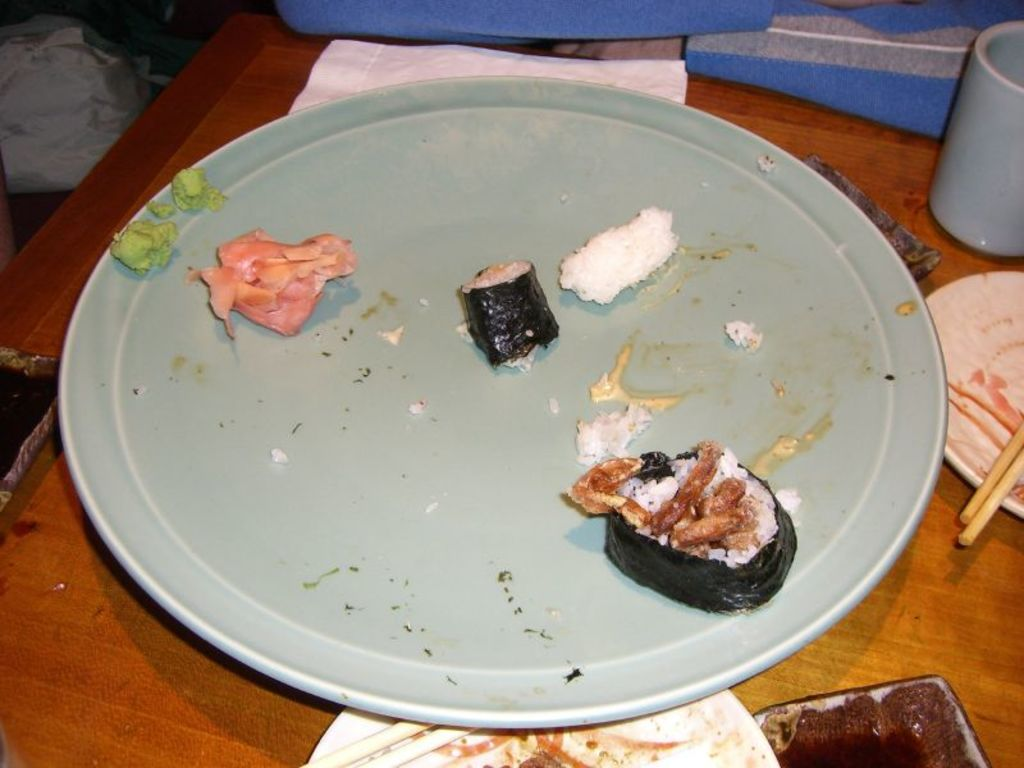sushi: (584, 460, 791, 613), (458, 261, 563, 370)
